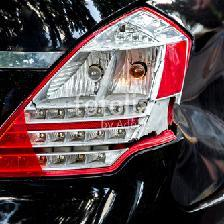broken_light: (7, 8, 190, 193)
